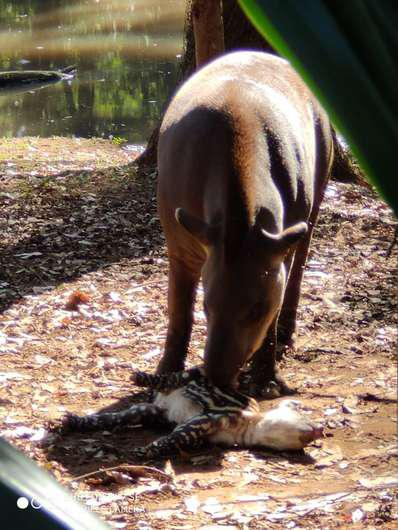Anta: (140, 43, 340, 391), (65, 366, 336, 468)
